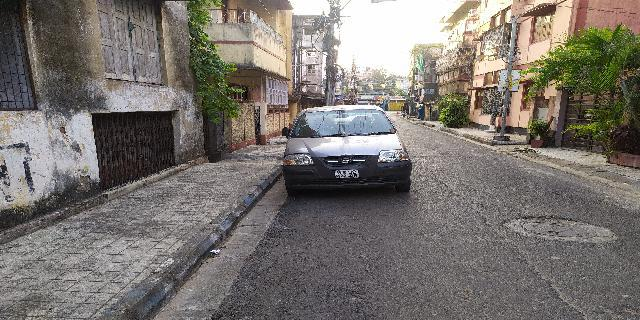Car: (275, 103, 414, 198)
